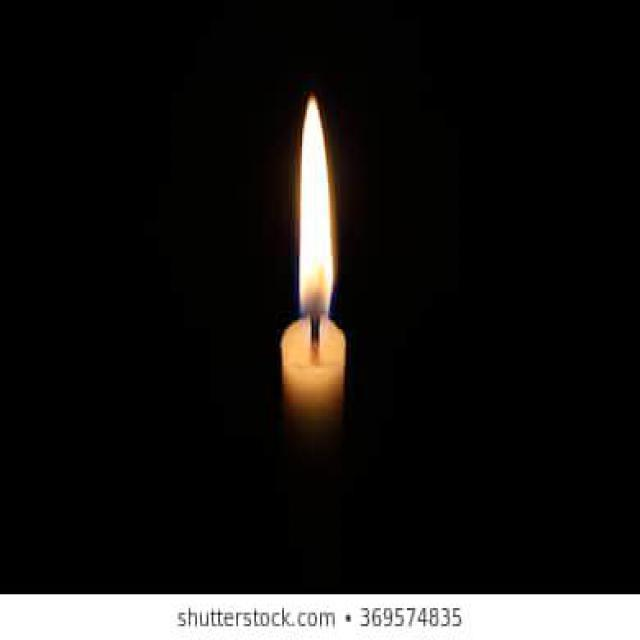Fire: (298, 95, 334, 328)
